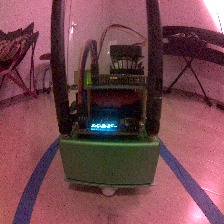rob: (57, 43, 161, 197)
